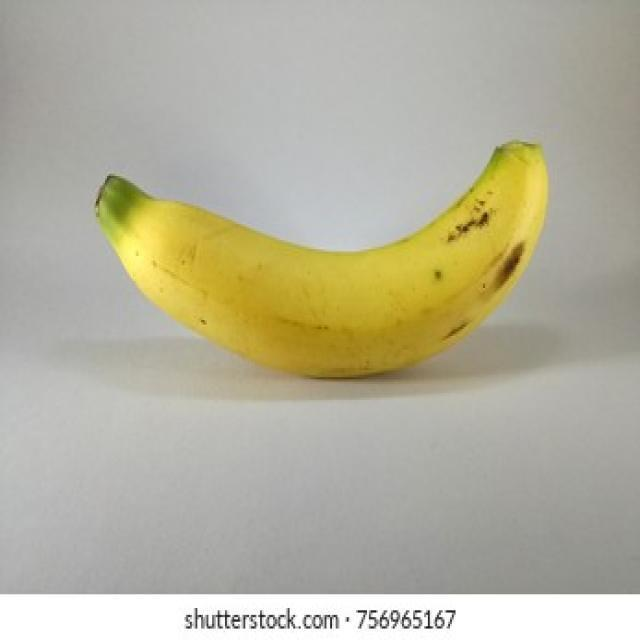Banana: (87, 136, 554, 384)
